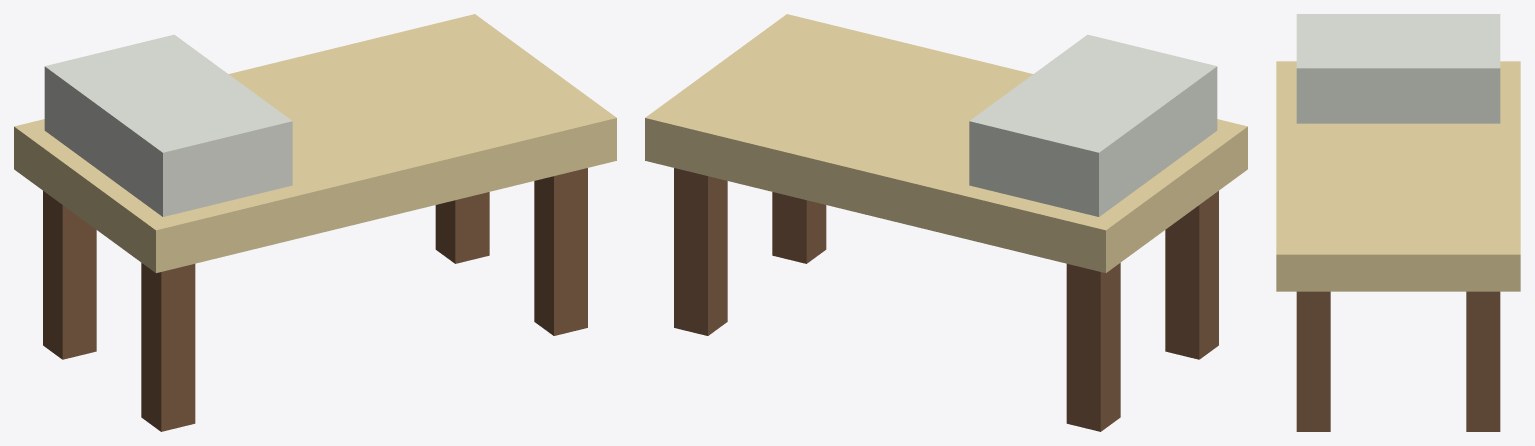
File: prop_bed.glb
The picture shows the model from 3 angles, left to right: view 1: azimuth 30°, elevation 25°; view 2: azimuth 150°, elevation 25°; view 3: azimuth 270°, elevation 25°; orthographic projection. The views are drawn at different scales.
Visible parts, largest first — view 1: prop_bed; view 2: prop_bed; view 3: prop_bed.
Boxes of the visible parts, <box> form: prop_bed: <box>14,14,616,431</box>; prop_bed: <box>645,14,1247,431</box>; prop_bed: <box>1276,14,1520,431</box>.
Bounding box in the file's own units: 1.35 × 0.78 × 0.72.
Materials: 1 (1 with a texture image).
